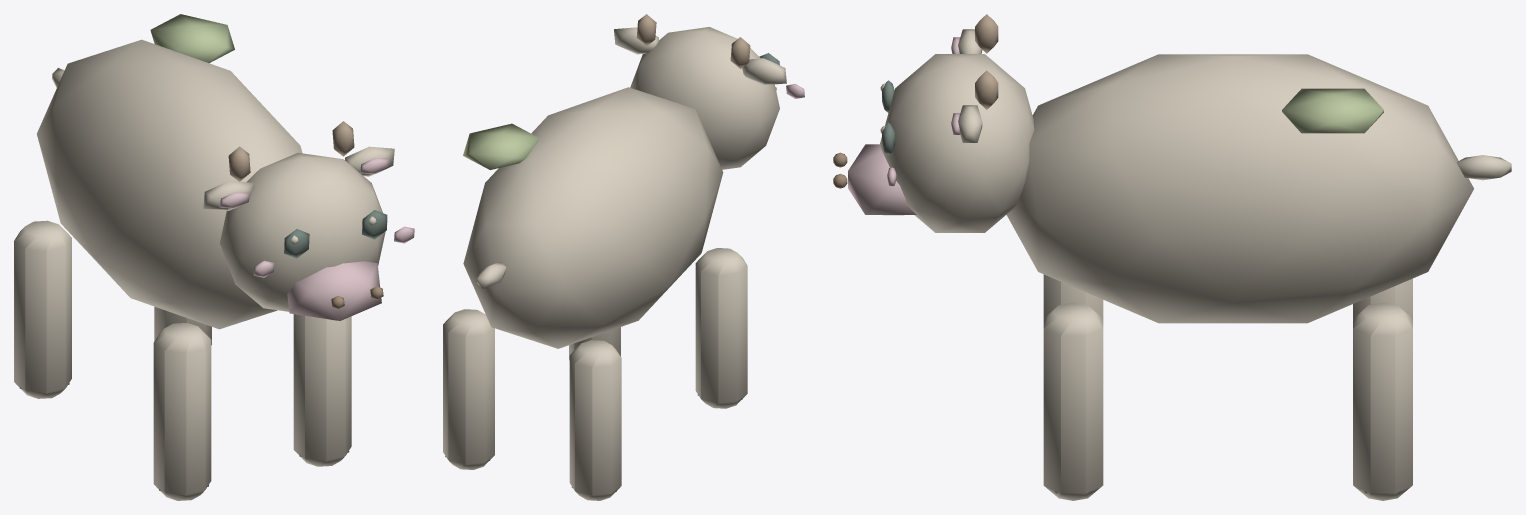
File: npc_calf.glb
3 renders of one model, left to right at view 1: azimuth 30°, elevation 25°; view 2: azimuth 150°, elevation 25°; view 3: azimuth 270°, elevation 25°, orthographic. The views are drawn at different scales.
Visible parts, largest first — view 1: npc_calf; view 2: npc_calf; view 3: npc_calf.
Boxes of the visible parts, box(x1,y1,x2,y2) form: npc_calf: box(14, 14, 414, 500); npc_calf: box(443, 14, 804, 500); npc_calf: box(833, 14, 1511, 500).
Size of the model in its own units: 0.7377 by 1.37 by 2.04.
